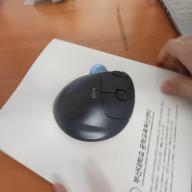mouse: (52, 63, 137, 144)
